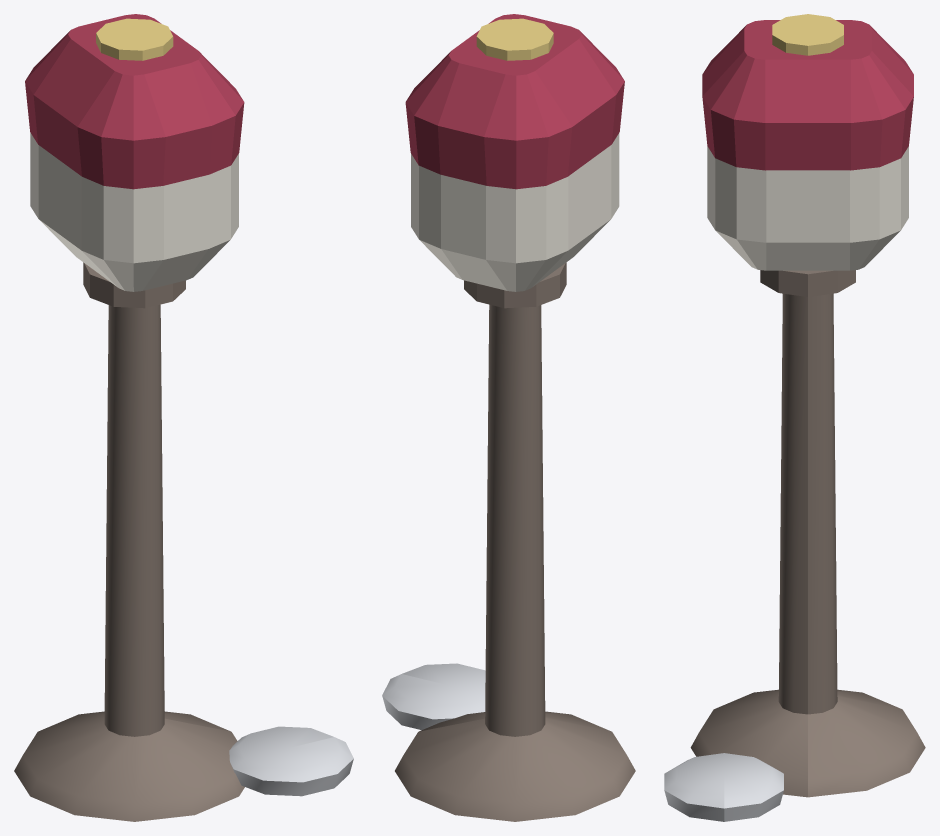
Rendered from theatre-stage-and-backstage-wig-block-stand-347eee98.glb.
3 views of the same model, side by side, from view 1: azimuth 30°, elevation 25°; view 2: azimuth 150°, elevation 25°; view 3: azimuth 270°, elevation 25° (orthographic). The views are drawn at different scales.
Visible parts, largest first — view 1: wig-block-stand; view 2: wig-block-stand; view 3: wig-block-stand.
Boxes of the visible parts, x1,y1,x2,y2 form: wig-block-stand: (14,14,353,821); wig-block-stand: (382,14,635,821); wig-block-stand: (664,14,925,821).
Bounding box in the file's own units: 0.365 × 0.943 × 0.3113.
